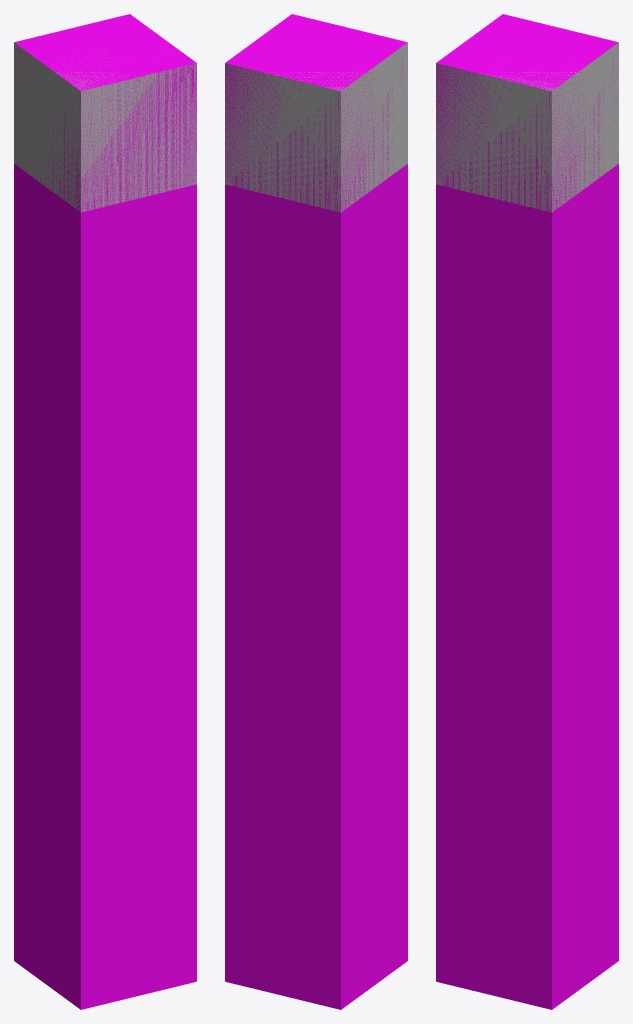
The model's file is patung.glb.
The picture shows the model from 3 angles, left to right: view 1: azimuth 30°, elevation 25°; view 2: azimuth 150°, elevation 25°; view 3: azimuth 330°, elevation 25°; orthographic projection.
Parts seen in each view (by area): view 1: col_patung, patung_kepala; view 2: col_patung, patung_kepala; view 3: col_patung, patung_kepala.
Part boxes in pixels (bbox=[...]): col_patung: bbox=[14, 14, 196, 1009]; patung_kepala: bbox=[14, 42, 196, 212]; col_patung: bbox=[225, 14, 407, 1009]; patung_kepala: bbox=[225, 42, 407, 212]; col_patung: bbox=[436, 14, 618, 1009]; patung_kepala: bbox=[436, 42, 618, 212].
Bounding box in the file's own units: 0.7 × 5.3 × 0.7.
